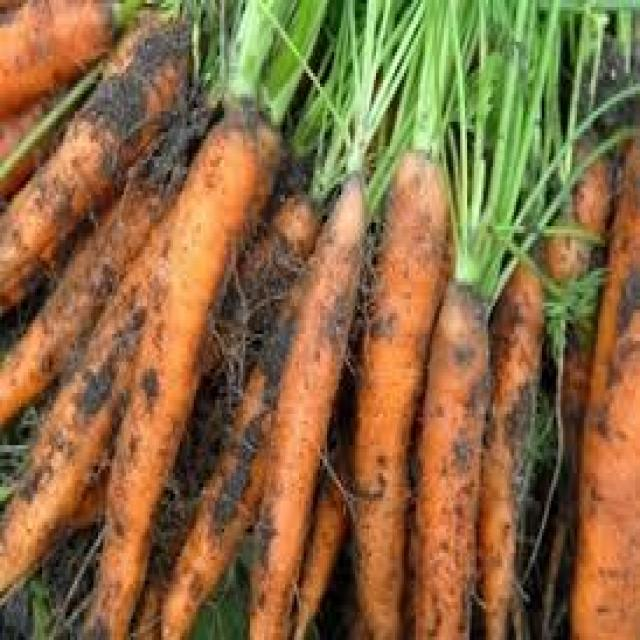organic waste: (86, 104, 282, 636), (126, 192, 322, 636), (0, 205, 178, 602), (156, 223, 308, 636), (0, 119, 208, 418), (245, 167, 369, 636), (0, 0, 189, 306), (446, 0, 638, 285), (348, 143, 448, 636), (289, 0, 516, 191), (568, 132, 638, 637), (416, 275, 490, 636), (189, 0, 397, 122), (476, 261, 542, 636), (542, 143, 610, 365), (294, 400, 346, 637), (0, 0, 112, 108), (0, 98, 63, 198), (112, 0, 238, 35), (72, 459, 110, 529)
